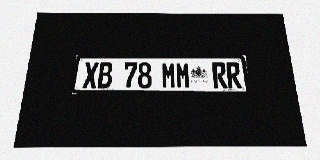7: (123, 62, 138, 88)
8: (137, 62, 152, 88)
B: (97, 62, 113, 88)
M: (162, 62, 176, 88), (176, 62, 190, 88)
R: (212, 62, 228, 88), (226, 62, 242, 88)
X: (82, 62, 99, 88)
